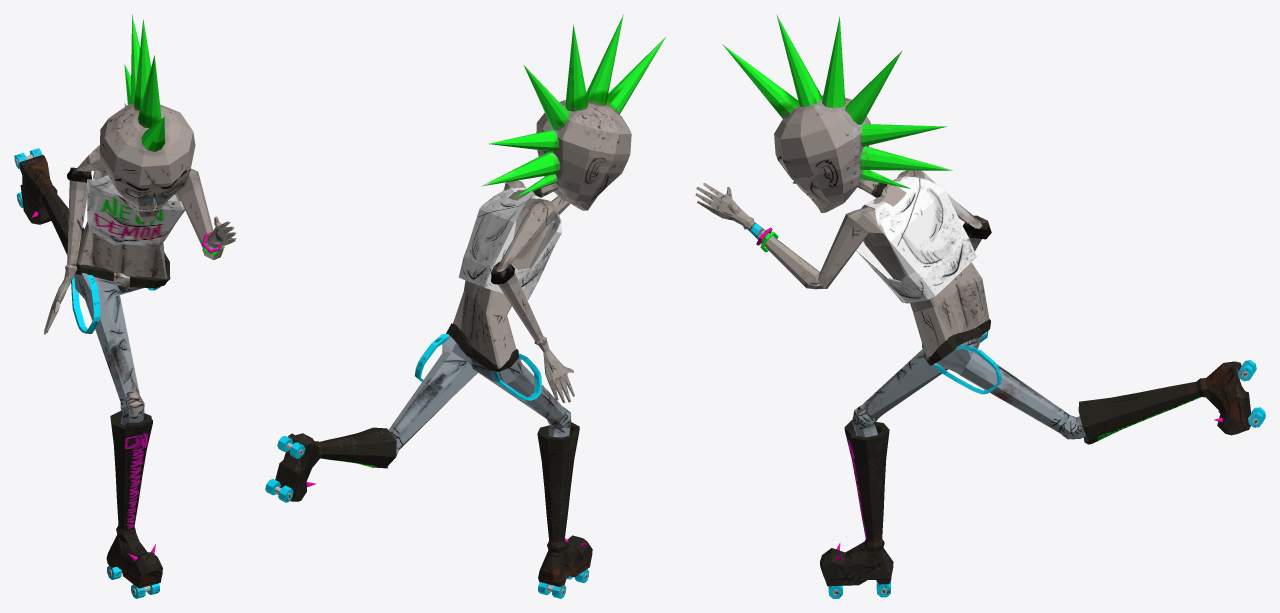
File: punkAnimation_000038.obj
3 renders of one model, left to right at view 1: azimuth 30°, elevation 25°; view 2: azimuth 150°, elevation 25°; view 3: azimuth 270°, elevation 25°, orthographic. The views are drawn at different scales.
Visible parts, largest first — view 1: Cube.004_Cube.003; view 2: Cube.004_Cube.003; view 3: Cube.004_Cube.003.
Part boxes in pixels (x1=…): Cube.004_Cube.003: x1=14, y1=14, x2=236, y2=598; Cube.004_Cube.003: x1=265, y1=14, x2=666, y2=598; Cube.004_Cube.003: x1=695, y1=14, x2=1265, y2=598.
Bounding box in the file's own units: 1.91 × 6.67 × 5.96.
